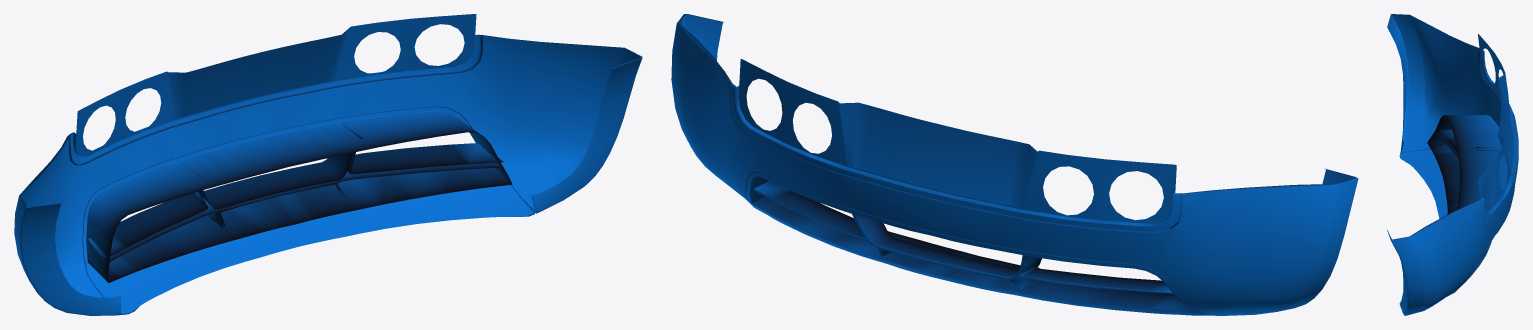
The model's file is Veyron_BB02_Duco.fbx.
The picture shows the model from 3 angles, left to right: view 1: azimuth 30°, elevation 25°; view 2: azimuth 150°, elevation 25°; view 3: azimuth 270°, elevation 25°; orthographic projection. The views are drawn at different scales.
Parts seen in each view (by area): view 1: Veyron_BB02_Duco; view 2: Veyron_BB02_Duco; view 3: Veyron_BB02_Duco.
Boxes of the visible parts, bbox=[...] form: Veyron_BB02_Duco: bbox=[14, 14, 642, 315]; Veyron_BB02_Duco: bbox=[671, 14, 1358, 315]; Veyron_BB02_Duco: bbox=[1387, 14, 1518, 315].
Bounding box in the file's own units: 197 × 50.57 × 48.27.
